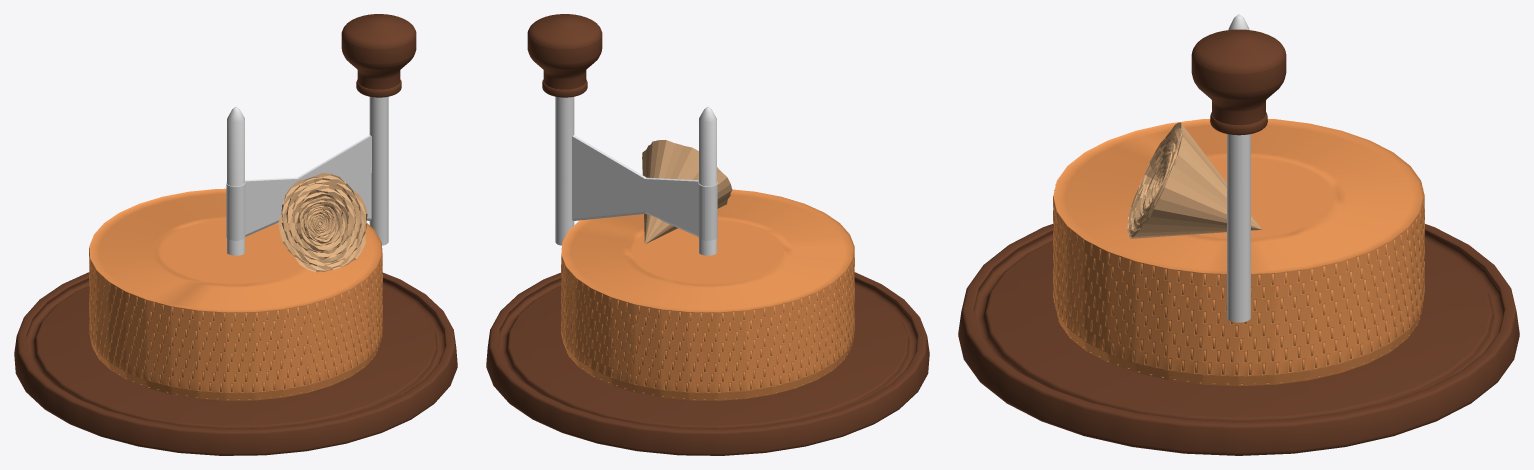
3 renders of one model, left to right at view 1: azimuth 30°, elevation 25°; view 2: azimuth 150°, elevation 25°; view 3: azimuth 270°, elevation 25°, orthographic. The views are drawn at different scales.
Parts seen in each view (by area): view 1: Circle.001, Circle, Circle.004, Cone, Circle.003, Circle.002; view 2: Circle.001, Circle, Circle.004, Circle.003, Cone, Circle.002; view 3: Circle.001, Circle, Cone, Circle.003, Circle.004.
Boxes of the visible parts, x1,y1,x2,y2 form: Circle.001: (89,188,382,400); Circle: (14,272,457,455); Circle.004: (226,96,388,245); Cone: (278,173,367,272); Circle.003: (341,14,416,97); Circle.002: (227,106,244,255); Circle.001: (561,189,854,400); Circle: (486,272,929,455); Circle.004: (555,96,717,245); Circle.003: (527,14,602,97); Cone: (642,140,732,244); Circle.002: (699,106,716,255); Circle.001: (1053,118,1424,386); Circle: (958,224,1519,455); Cone: (1127,122,1261,238); Circle.003: (1191,29,1286,135); Circle.004: (1227,134,1250,322).
Size of the model in its own units: 6.14 by 4.81 by 6.14.
